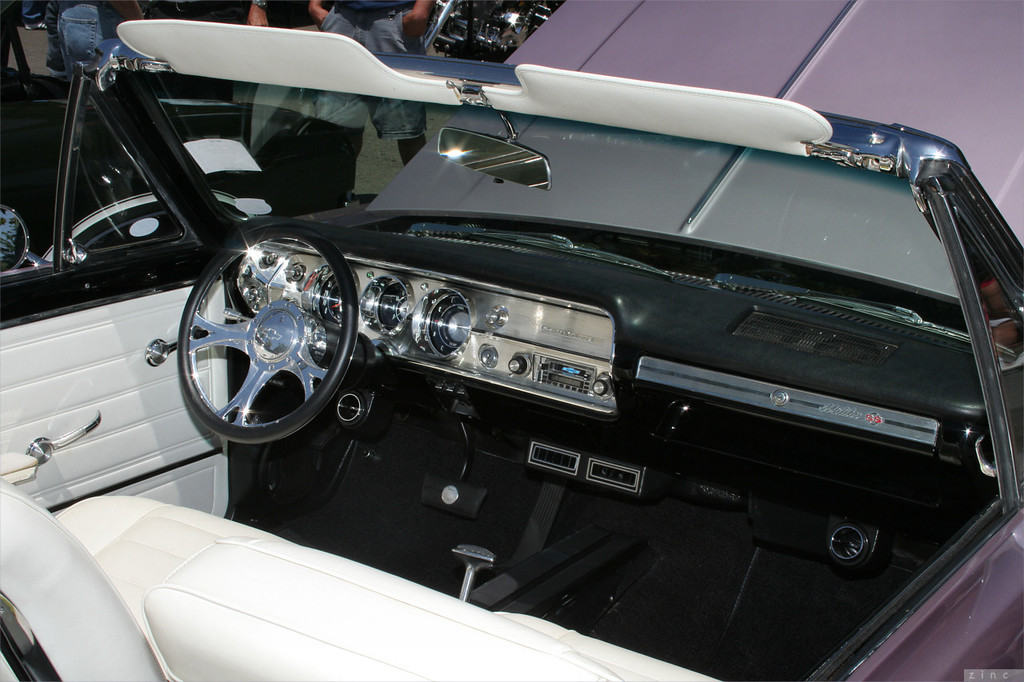Car: (0, 0, 1023, 681), (0, 0, 240, 265)
